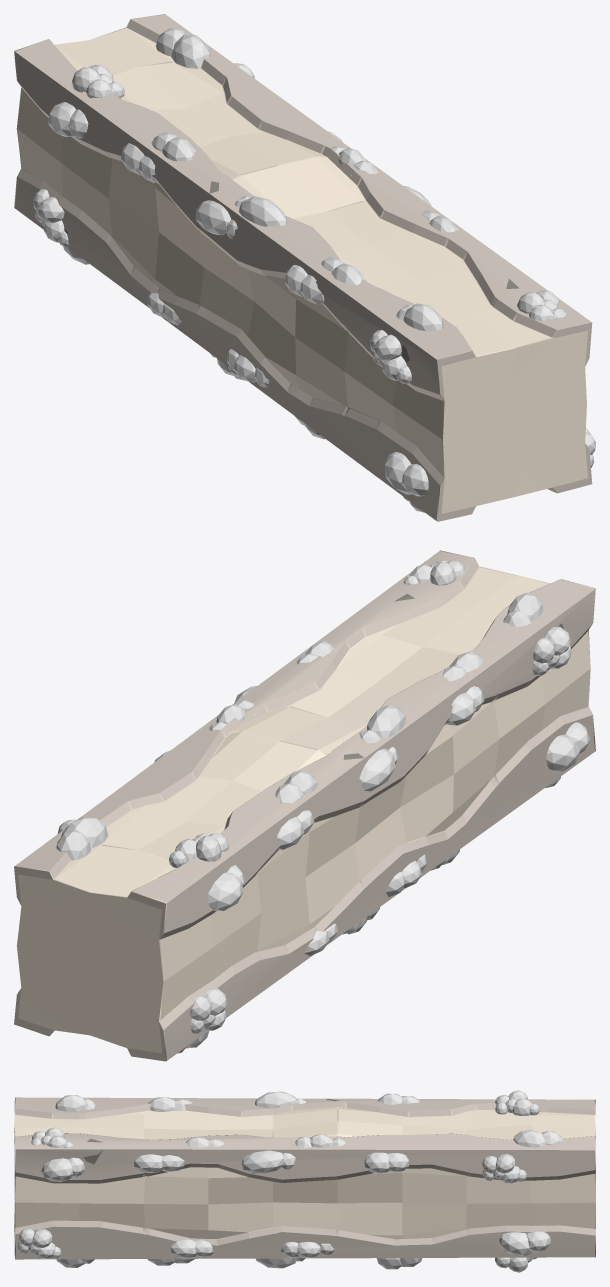
The model's file is yol-S1.fbx.
3 views of the same model, one above another, from view 1: azimuth 30°, elevation 25°; view 2: azimuth 150°, elevation 25°; view 3: azimuth 270°, elevation 25° (orthographic). The views are drawn at different scales.
Parts seen in each view (by area): view 1: Cube.002; view 2: Cube.002; view 3: Cube.002.
Part boxes in pixels (left/top/right/bottom): Cube.002: left=14, top=14, right=595, bottom=521; Cube.002: left=14, top=550, right=595, bottom=1061; Cube.002: left=14, top=1090, right=595, bottom=1272.
Bounding box in the file's own units: 566 × 581 × 2181.
